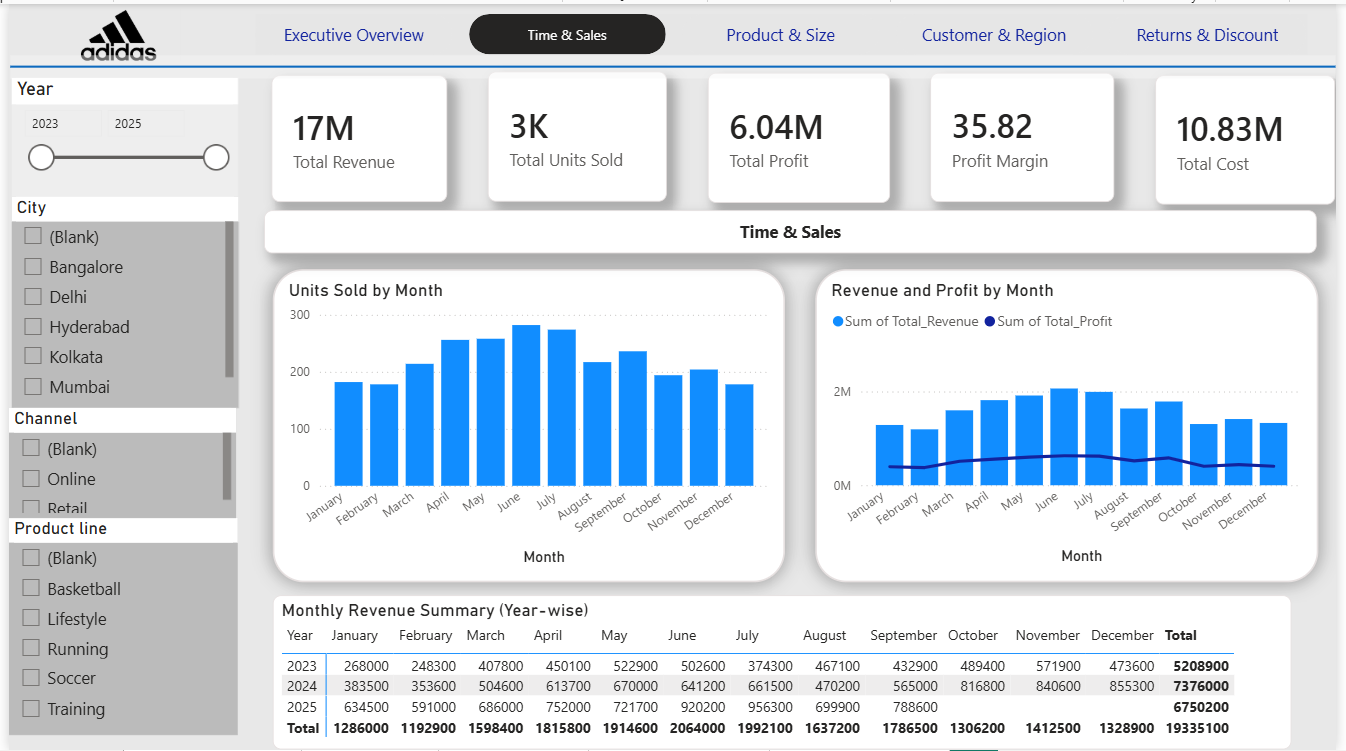

What the dashboard file says about the page in this screenshot:
{"tool":"powerbi","page":{"name":"Time & Sales","canvas":[1280,720],"ordinal":1},"visuals":[{"type":"columnChart","title":"Units Sold by Month","fields":{"Y":["Sum(Sales_Data.Units_Sold)"],"Category":["Sales_Data.Month"]},"box":[254.3,255.6,494,302],"z":0},{"type":"lineClusteredColumnComboChart","title":"Revenue and Profit by Month","fields":{"Y":["Sum(Sales_Data.Total_Revenue)"],"Category":["Sales_Data.Month"],"Y2":["Sum(Sales_Data.Total_Profit)"]},"box":[777.7,255.6,485.5,302],"z":1000},{"type":"pivotTable","title":"Monthly Revenue Summary (Year-wise)","fields":{"Rows":["Sales_Data.Year"],"Columns":["Sales_Data.Month"],"Values":["Sum(Sales_Data.Total_Revenue)"]},"box":[254.3,571.1,983.2,149.2],"z":2000},{"type":"cardVisual","fields":{"Data":["_measures.Total Revenue"]},"box":[253.1,68.5,170,122.3],"z":3000},{"type":"cardVisual","fields":{"Data":["_measures.Total Cost"]},"box":[1106.4,68.5,173.6,124.7],"z":4000},{"type":"cardVisual","fields":{"Data":["_measures.Total Units Sold"]},"box":[462.5,64.8,172.4,126],"z":5000},{"type":"cardVisual","fields":{"Data":["_measures.Profit Margin %"]},"box":[889.7,66,177.3,124.7],"z":6000},{"type":"cardVisual","fields":{"Data":["_measures.Total Profit"]},"box":[674.2,66,176.1,126],"z":7000},{"type":"image","box":[45.2,4.9,119.8,50.1],"z":8000},{"type":"pageNavigator","box":[237.2,9.8,1016.2,39.1],"z":9000},{"type":"textbox","box":[245.8,199.3,1016.2,41.6],"z":10000},{"type":"shape","box":[0.9,48.9,1279.1,22],"z":11000},{"type":"slicer","title":"Year","fields":{"Values":["Sales_Data.Year"]},"box":[2.4,71.2,218.4,119.4],"z":12000},{"type":"slicer","title":"City","fields":{"Values":["Sales_Data.City"]},"box":[2.4,185.8,219.6,203.9],"z":13000},{"type":"slicer","title":"Product line","fields":{"Values":["Sales_Data.Product_Line"]},"box":[0,495.8,220.8,209.9],"z":14000},{"type":"slicer","title":"Channel","fields":{"Values":["Sales_Data.Channel"]},"box":[0,389.7,219.6,106.2],"z":15000}]}

Visuals, with their boxes in screenshot pixels (x1, y1, x2, y2), scaled from the page's 1280x720 canvas onto the 1346x751 screenshot:
"Units Sold by Month" columnChart: [left=267, top=267, right=787, bottom=582]
"Revenue and Profit by Month" lineClusteredColumnComboChart: [left=818, top=267, right=1328, bottom=582]
"Monthly Revenue Summary (Year-wise)" pivotTable: [left=267, top=596, right=1301, bottom=750]
cardVisual - _measures.Total Revenue: [left=266, top=71, right=445, bottom=199]
cardVisual - _measures.Total Cost: [left=1163, top=71, right=1345, bottom=202]
cardVisual - _measures.Total Units Sold: [left=486, top=68, right=668, bottom=199]
cardVisual - _measures.Profit Margin %: [left=936, top=69, right=1122, bottom=199]
cardVisual - _measures.Total Profit: [left=709, top=69, right=894, bottom=200]
image: [left=48, top=5, right=174, bottom=57]
pageNavigator: [left=249, top=10, right=1318, bottom=51]
textbox: [left=258, top=208, right=1327, bottom=251]
shape: [left=1, top=51, right=1345, bottom=74]
"Year" slicer: [left=3, top=74, right=232, bottom=199]
"City" slicer: [left=3, top=194, right=233, bottom=406]
"Product line" slicer: [left=0, top=517, right=232, bottom=736]
"Channel" slicer: [left=0, top=406, right=231, bottom=517]
